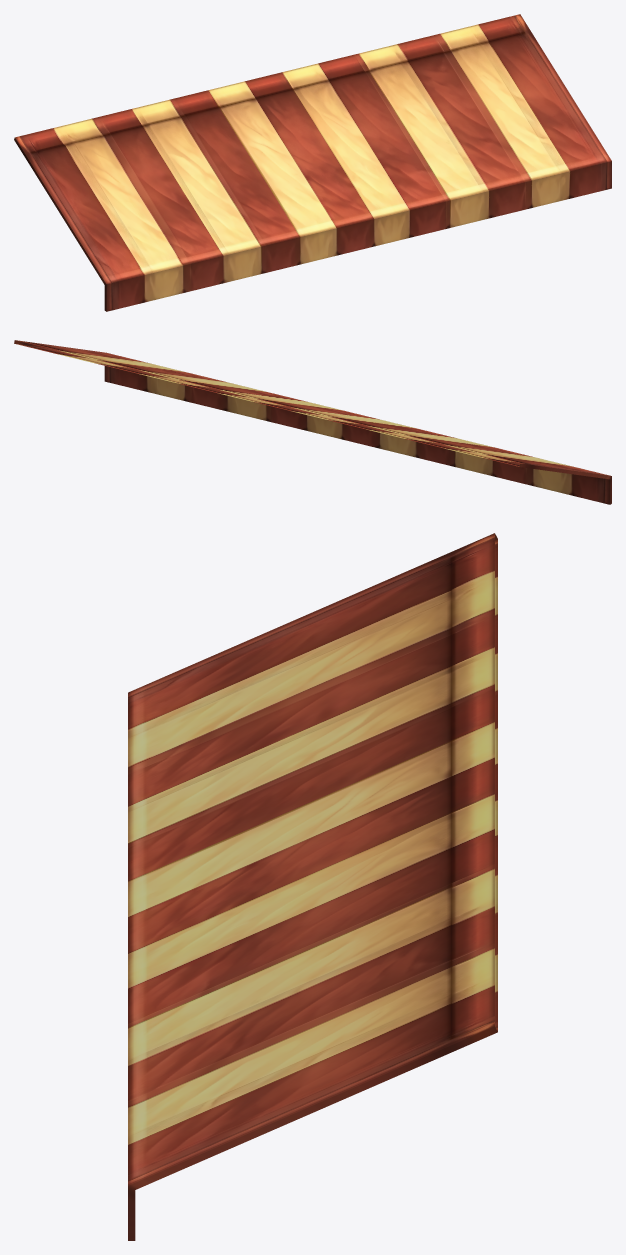
File: DECO_Awning4.fbx
3 renders of one model, top to bottom at view 1: azimuth 30°, elevation 25°; view 2: azimuth 150°, elevation 25°; view 3: azimuth 270°, elevation 25°, orthographic. The views are drawn at different scales.
Visible parts, largest first — view 1: DECO_Awning4; view 2: DECO_Awning4; view 3: DECO_Awning4.
Boxes of the visible parts, left/top/right/bottom form: DECO_Awning4: left=14, top=14, right=611, bottom=311; DECO_Awning4: left=14, top=340, right=611, bottom=504; DECO_Awning4: left=128, top=533, right=497, bottom=1240.
Size of the model in its own units: 4 by 1.27 by 0.8113.
Materials: 1 (1 with a texture image).
